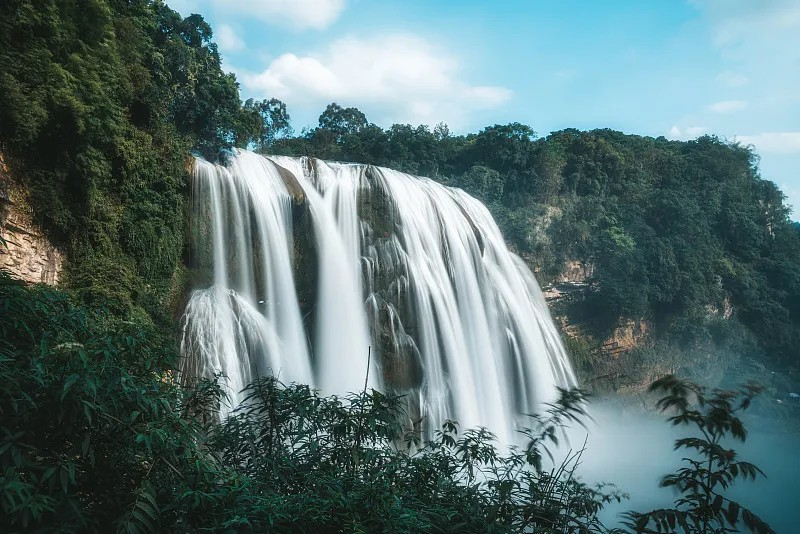Huangguoshu: (172, 149, 590, 447)
